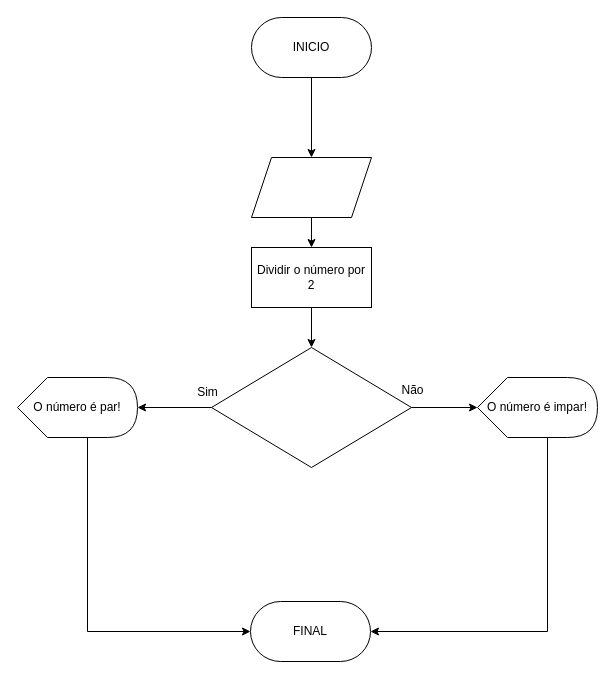
This 615x679 diagram has some shape labels left out. Each missing label, with the box of its shape:
O resto da divisão é igual a 0? (numero % 2 = 0): (210, 346, 412, 468)
Pedir um número inteiro (numero): (250, 156, 372, 218)
